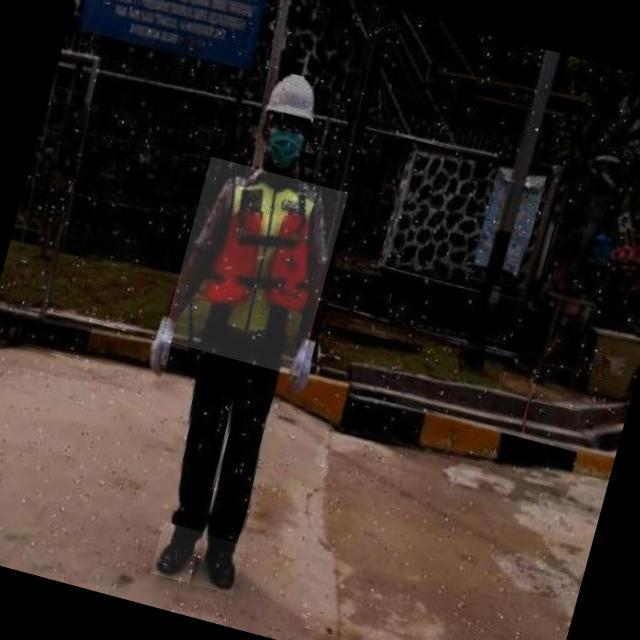Helmet: (260, 68, 321, 126)
Safety Boot: (150, 522, 203, 585), (193, 535, 245, 595)
Safety Vest: (161, 156, 348, 377)
bare-arms: (143, 310, 185, 385), (288, 331, 320, 396)
no-vest: (126, 54, 374, 602)
